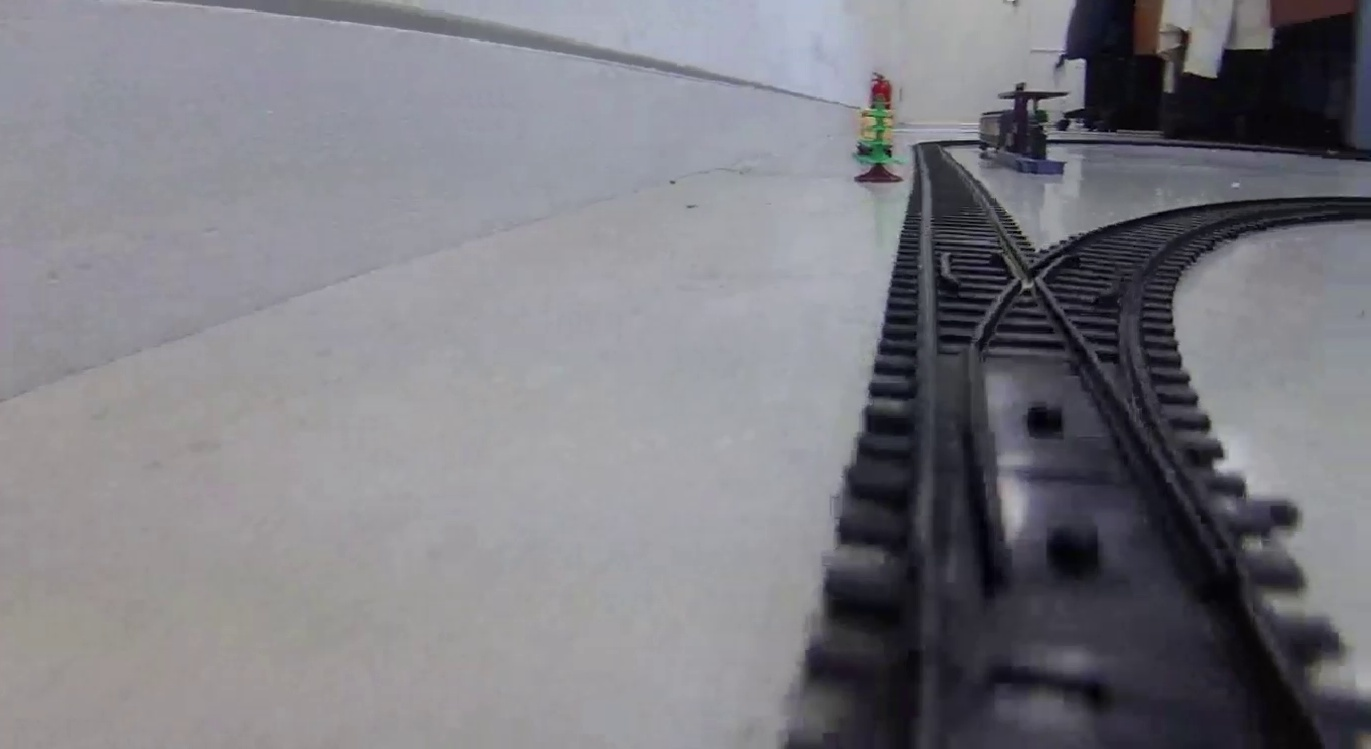tree: (857, 95, 901, 183)
